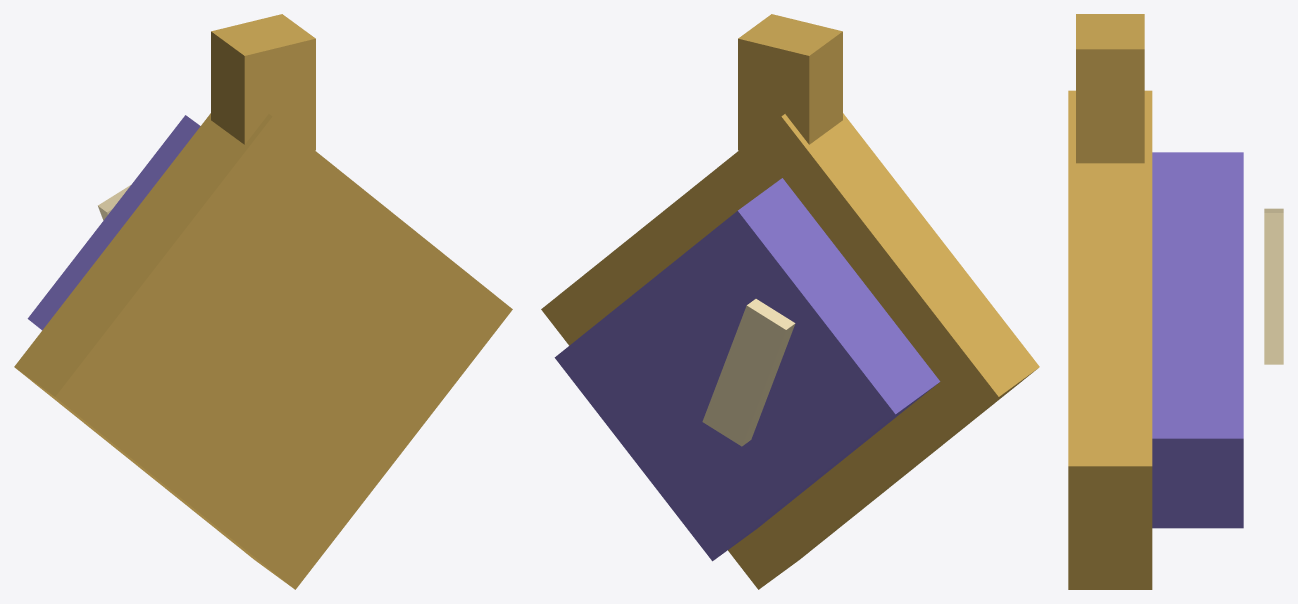
The model's file is focus_prism.glb.
3 renders of one model, left to right at view 1: azimuth 30°, elevation 25°; view 2: azimuth 150°, elevation 25°; view 3: azimuth 270°, elevation 25°, orthographic.
Parts seen in each view (by area): view 1: focus_prism; view 2: focus_prism; view 3: focus_prism.
Part boxes in pixels (<box>): focus_prism: <box>14,14,512,589</box>; focus_prism: <box>541,14,1039,589</box>; focus_prism: <box>1068,14,1283,589</box>.
Size of the model in its own units: 1.41 by 1.6 by 0.565.
